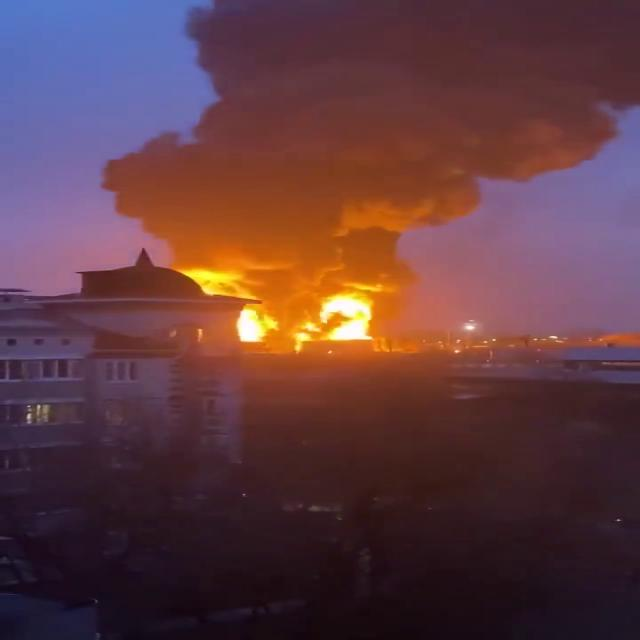Fire: (308, 295, 376, 344), (238, 307, 274, 346)
Smoke: (103, 0, 640, 268)
